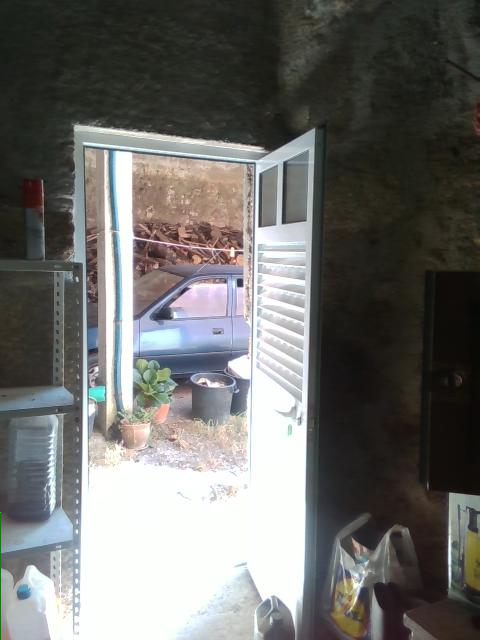door: (247, 123, 327, 640)
